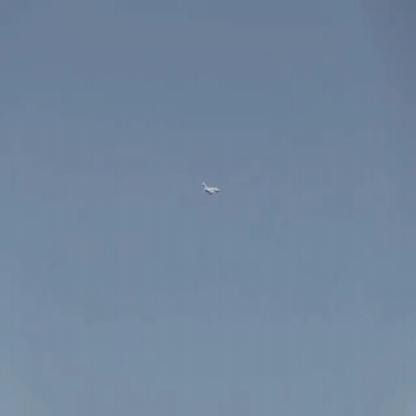CIV_Plane: (201, 183, 220, 196)
